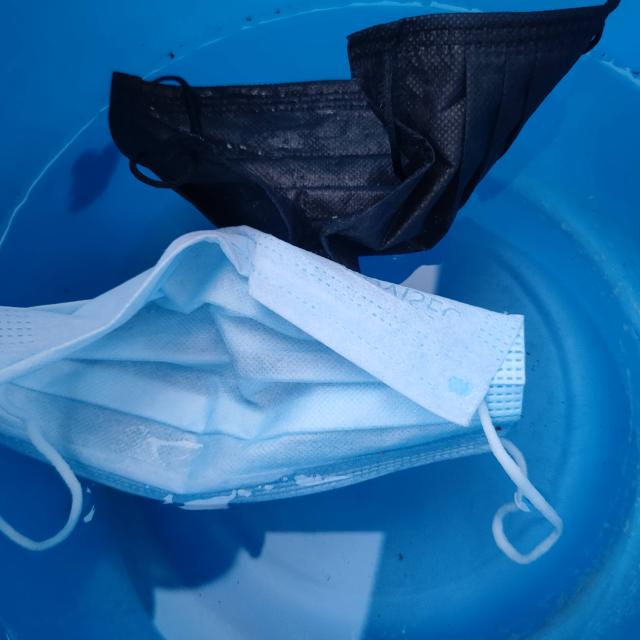mask: (4, 243, 570, 577), (80, 1, 611, 254)
